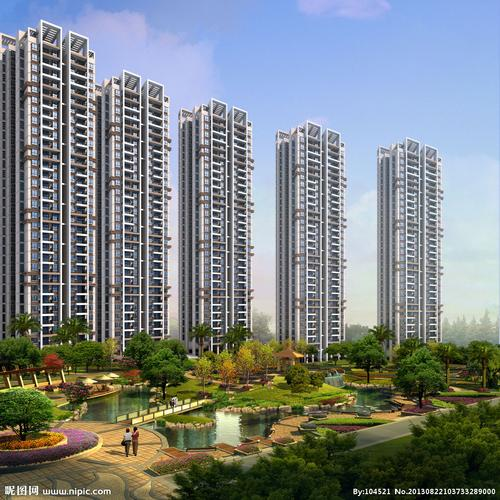buildings: (3, 31, 148, 350), (61, 59, 185, 352), (163, 86, 267, 343), (264, 104, 360, 366), (368, 119, 457, 359)
